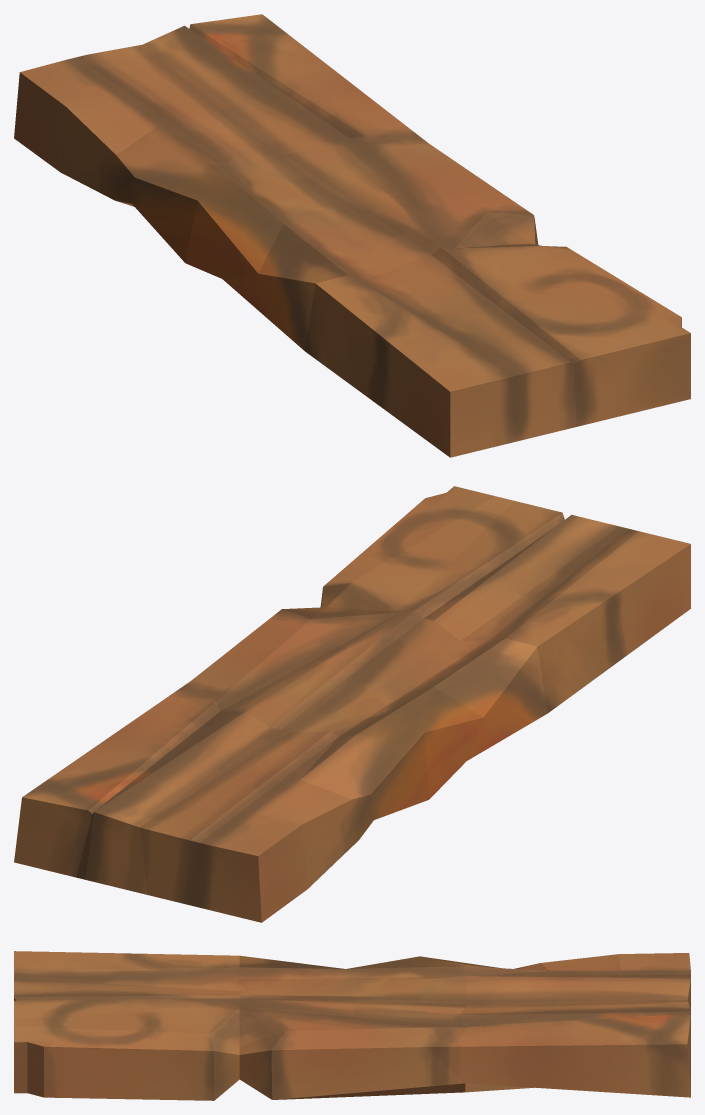
Rendered from PlanchaMadera2.fbx.
The picture shows the model from 3 angles, top to bottom: view 1: azimuth 30°, elevation 25°; view 2: azimuth 150°, elevation 25°; view 3: azimuth 270°, elevation 25°; orthographic projection. The views are drawn at different scales.
Visible parts, largest first — view 1: PlanchaMadera2; view 2: PlanchaMadera2; view 3: PlanchaMadera2.
Part boxes in pixels (left/top/right/bottom): PlanchaMadera2: left=14, top=14, right=690, bottom=457; PlanchaMadera2: left=14, top=486, right=690, bottom=922; PlanchaMadera2: left=14, top=951, right=690, bottom=1100.
Bounding box in the file's own units: 0.5129 × 0.1429 × 1.5.
1 material, 1 textured.
